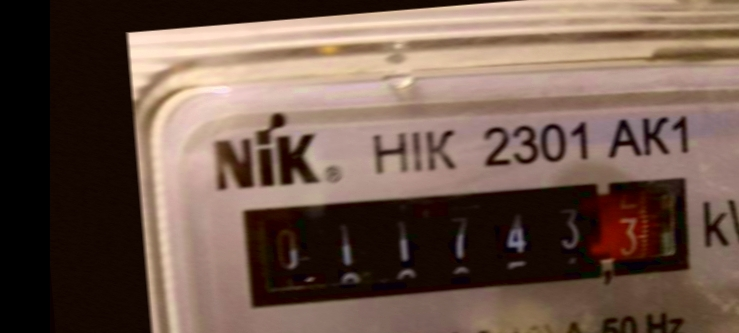0: (271, 225, 303, 274)
1: (390, 216, 415, 266), (335, 221, 356, 270)
3: (554, 204, 586, 253), (615, 214, 642, 259)
4: (500, 208, 532, 258)
7: (446, 213, 474, 263)
screen: (226, 164, 701, 320)
